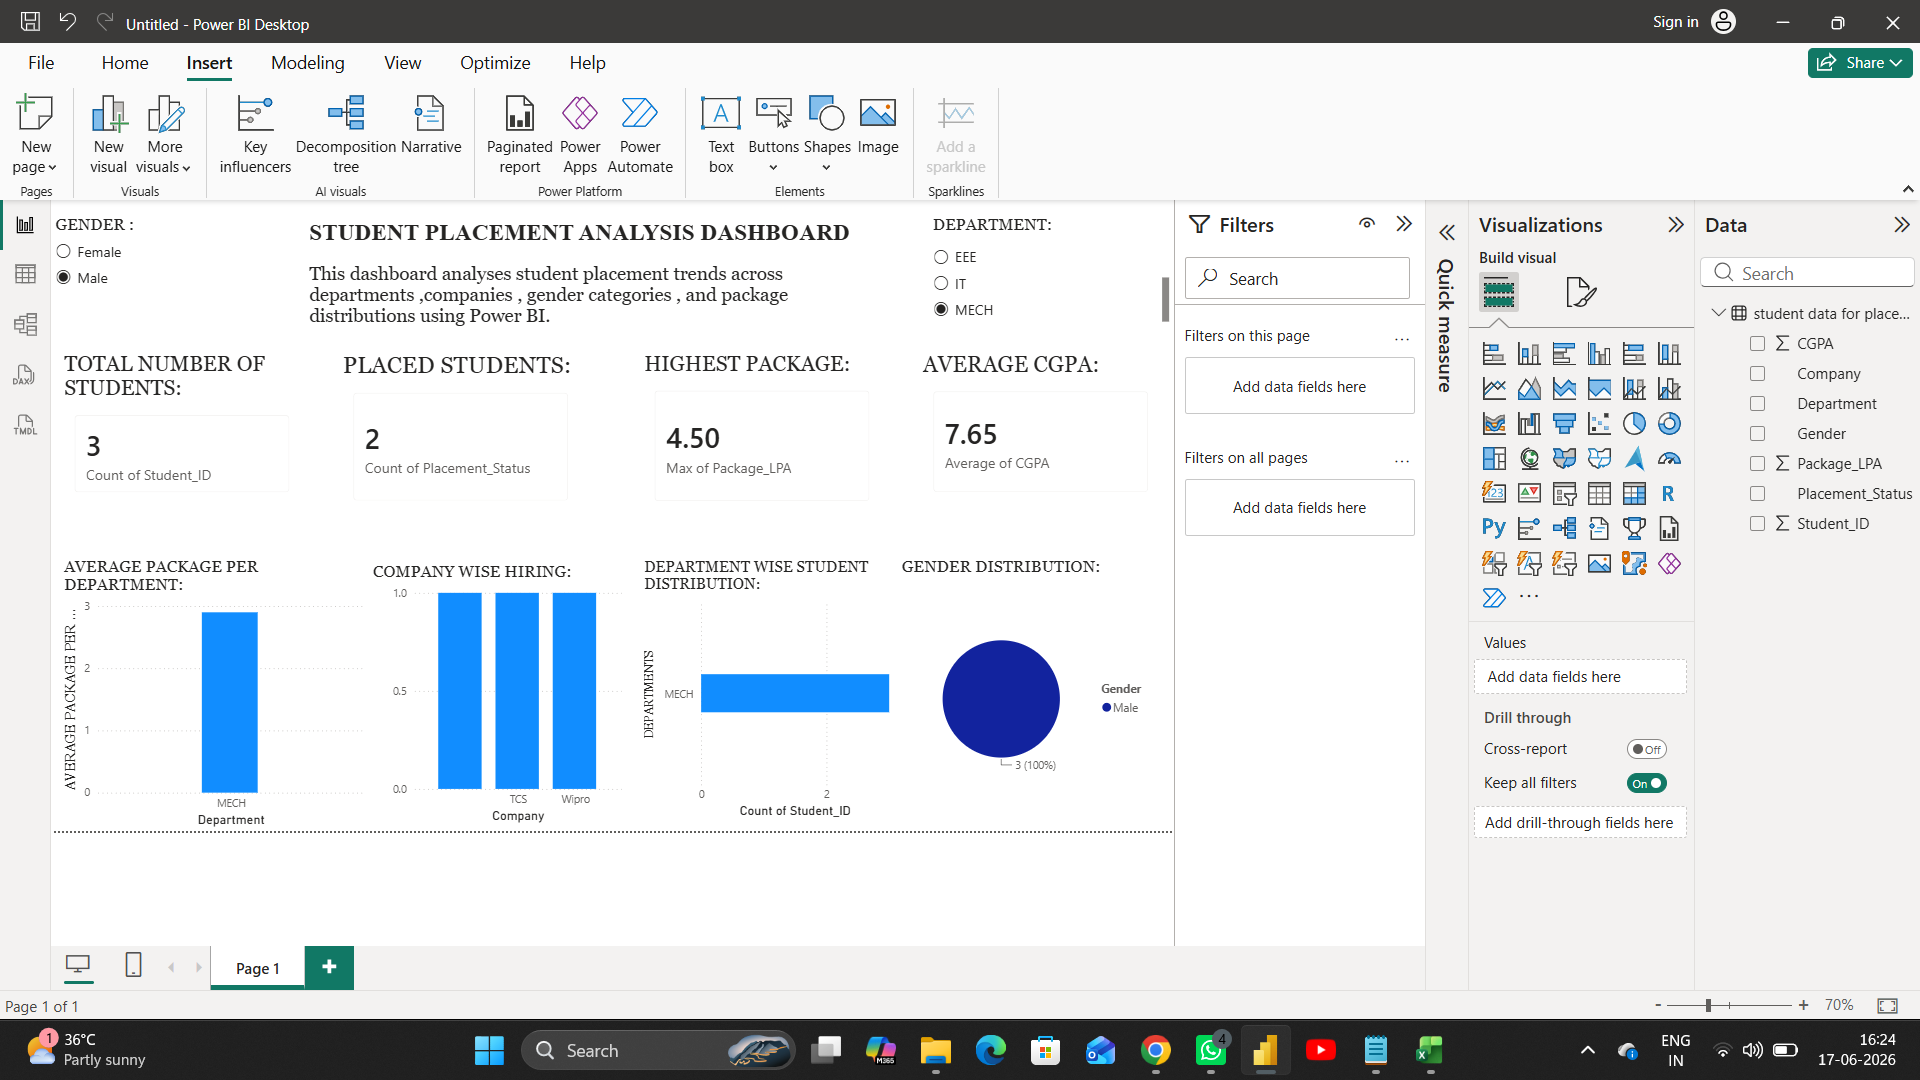

Layout of this report page (visuals, bound fields, positions):
{"tool":"powerbi","page":{"name":"Page 1","canvas":[1280,720],"ordinal":0},"visuals":[{"type":"cardVisual","title":"TOTAL NUMBER OF STUDENTS:","fields":{"Data":["CountNonNull(student data for placement prediction xlsx.Student_ID)"]},"box":[10,172.5,279.4,178.2],"z":0},{"type":"cardVisual","title":"PLACED STUDENTS:","fields":{"Data":["CountNonNull(student data for placement prediction xlsx.Placement_Status)"]},"box":[327.8,172.5,279.4,188.2],"z":1000},{"type":"cardVisual","title":"HIGHEST PACKAGE:","fields":{"Data":["Max(student data for placement prediction xlsx.Package_LPA)"]},"box":[671.4,172.5,279.4,188.2],"z":2000},{"type":"cardVisual","title":"AVERAGE CGPA:","fields":{"Data":["Avg(student data for placement prediction xlsx.CGPA)"]},"box":[989.2,172.5,279.4,178.2],"z":3000},{"type":"clusteredBarChart","title":"DEPARTMENT WISE STUDENT DISTRIBUTION:","fields":{"Category":["student data for placement prediction xlsx.Department"],"Y":["CountNonNull(student data for placement prediction xlsx.Student_ID)"]},"box":[671.4,407.7,293.6,302.2],"z":4000},{"type":"clusteredColumnChart","title":"COMPANY WISE HIRING:","fields":{"Category":["student data for placement prediction xlsx.Company"],"Y":["CountNonNull(student data for placement prediction xlsx.Student_ID)"]},"box":[362,413.4,293.6,302.2],"z":5000},{"type":"pieChart","title":"GENDER DISTRIBUTION:","fields":{"Category":["student data for placement prediction xlsx.Gender"],"Y":["CountNonNull(student data for placement prediction xlsx.Student_ID)"]},"box":[965,407.7,303.6,302.2],"z":6000},{"type":"clusteredColumnChart","title":"AVERAGE PACKAGE PER DEPARTMENT:","fields":{"Category":["student data for placement prediction xlsx.Department"],"Y":["Avg(student data for placement prediction xlsx.Package_LPA)"]},"box":[10,407.7,352.1,312.2],"z":7000},{"type":"listSlicer","title":"DEPARTMENT:","fields":{"Values":["student data for placement prediction xlsx.Department"]},"box":[1000.6,17.1,279.4,126.9],"z":8000},{"type":"listSlicer","title":"GENDER :","fields":{"Values":["student data for placement prediction xlsx.Gender"]},"box":[0,17.1,211,126.9],"z":9000},{"type":"textbox","box":[289.4,17.1,661.4,78.4],"z":10000},{"type":"textbox","box":[289.4,67,632.9,105.5],"z":11000}]}

Visuals, with their boxes on the page's 1280x720 design canvas (x1, y1, x2, y2). These are canvas units, not pixel positions in the 1920x1080 screenshot, which may show the page scaled, cropped or inside an application window:
"TOTAL NUMBER OF STUDENTS:" cardVisual: BBox(10, 172, 289, 351)
"PLACED STUDENTS:" cardVisual: BBox(328, 172, 607, 361)
"HIGHEST PACKAGE:" cardVisual: BBox(671, 172, 951, 361)
"AVERAGE CGPA:" cardVisual: BBox(989, 172, 1269, 351)
"DEPARTMENT WISE STUDENT DISTRIBUTION:" clusteredBarChart: BBox(671, 408, 965, 710)
"COMPANY WISE HIRING:" clusteredColumnChart: BBox(362, 413, 656, 716)
"GENDER DISTRIBUTION:" pieChart: BBox(965, 408, 1269, 710)
"AVERAGE PACKAGE PER DEPARTMENT:" clusteredColumnChart: BBox(10, 408, 362, 720)
"DEPARTMENT:" listSlicer: BBox(1001, 17, 1280, 144)
"GENDER :" listSlicer: BBox(0, 17, 211, 144)
textbox: BBox(289, 17, 951, 96)
textbox: BBox(289, 67, 922, 172)
